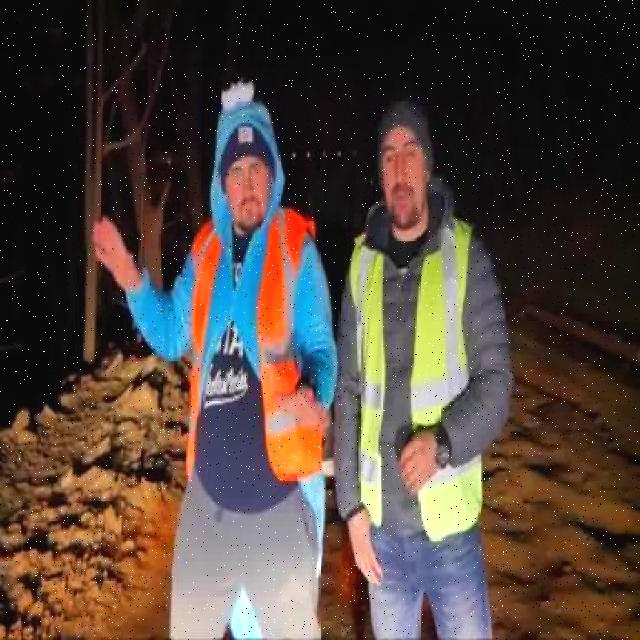Mask: (348, 215, 483, 543), (185, 205, 324, 487)
